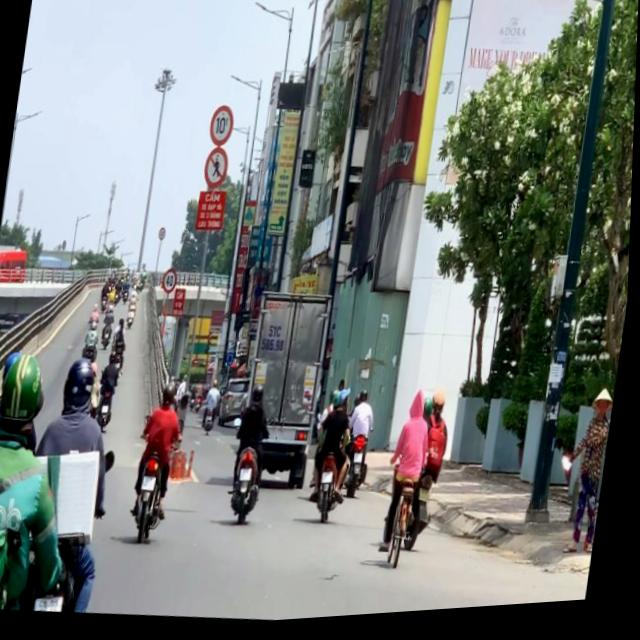Noi giao nhau chay theo vong xuyen: (228, 355, 237, 370)
Toc do toi da cho phep: (162, 269, 181, 297), (159, 228, 168, 243)
